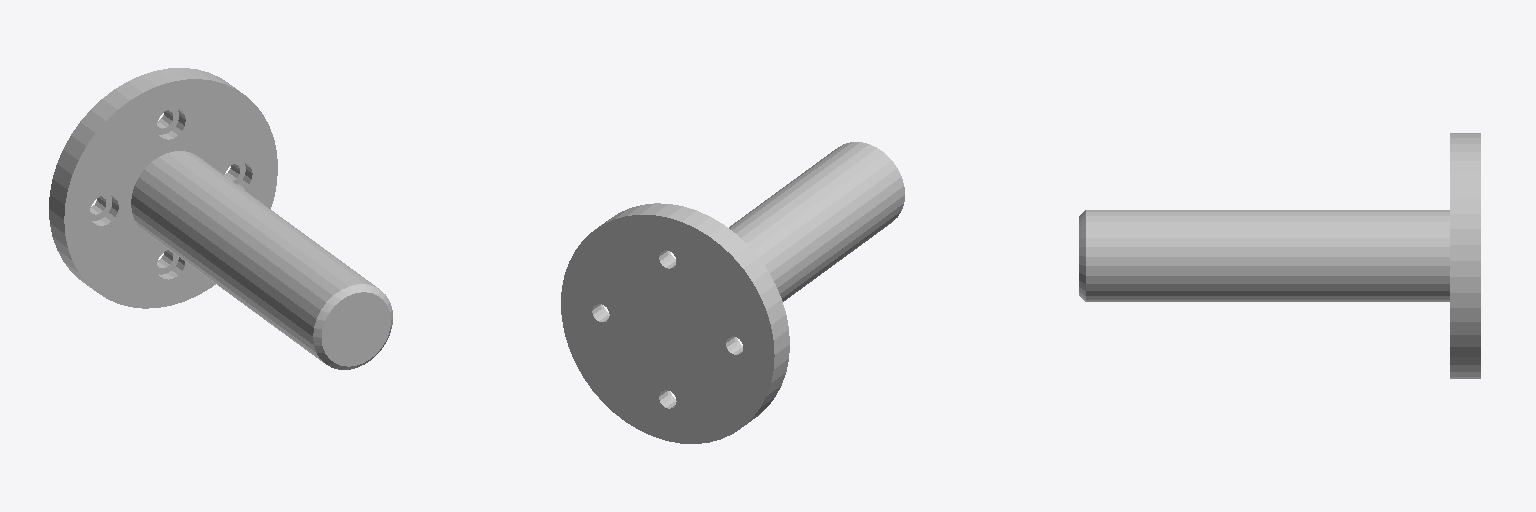
File: handGuidingTool.obj
3 views of the same model, side by side, from view 1: azimuth 30°, elevation 25°; view 2: azimuth 150°, elevation 25°; view 3: azimuth 270°, elevation 25° (orthographic).
Visible parts, largest first — view 1: Volumenkörper1; view 2: Volumenkörper1; view 3: Volumenkörper1.
Boxes of the visible parts, x1,y1,x2,y2 form: Volumenkörper1: [49, 68, 392, 369]; Volumenkörper1: [561, 142, 904, 443]; Volumenkörper1: [1079, 133, 1480, 378].
Bounding box in the file's own units: 80 × 80 × 130.